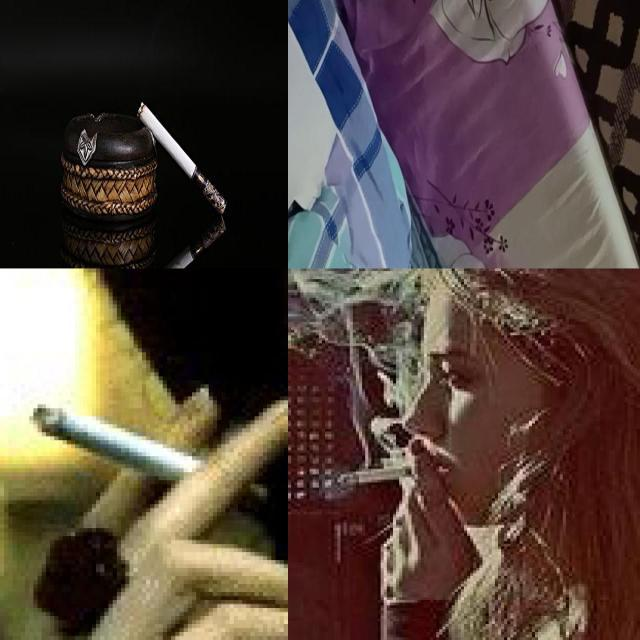smoking: (30, 402, 268, 508), (136, 100, 228, 216), (143, 216, 227, 268), (336, 460, 438, 488)
